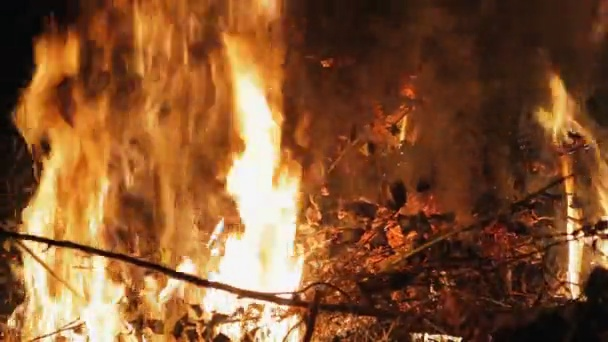fire: (5, 1, 302, 341), (533, 77, 608, 298)
